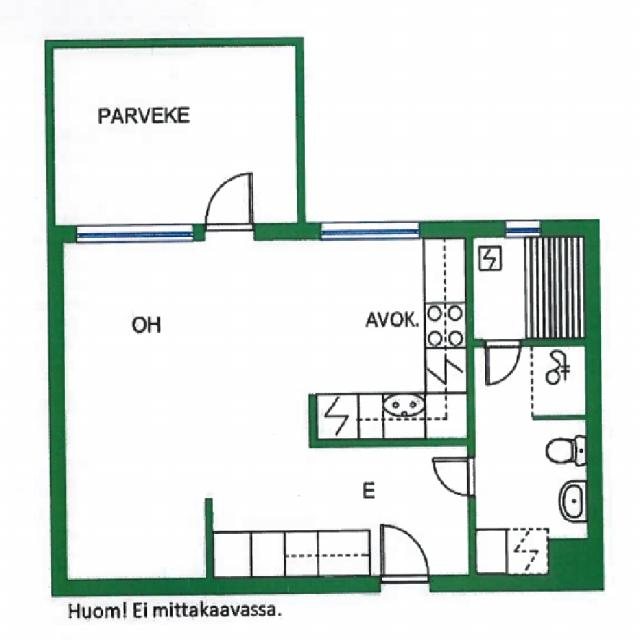door: (203, 167, 252, 238), (380, 525, 429, 596), (429, 458, 474, 496), (486, 338, 520, 384)
